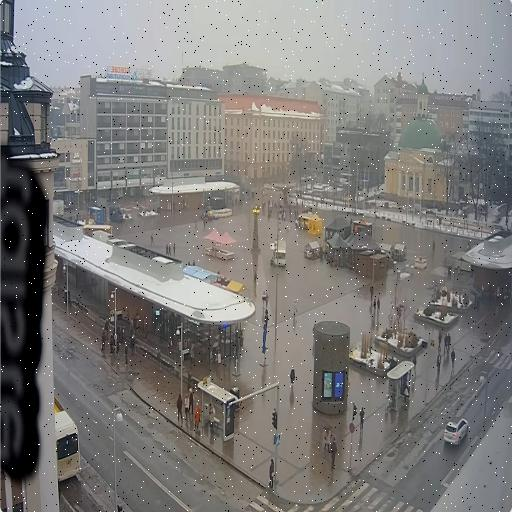Bus: (54, 398, 81, 481)
